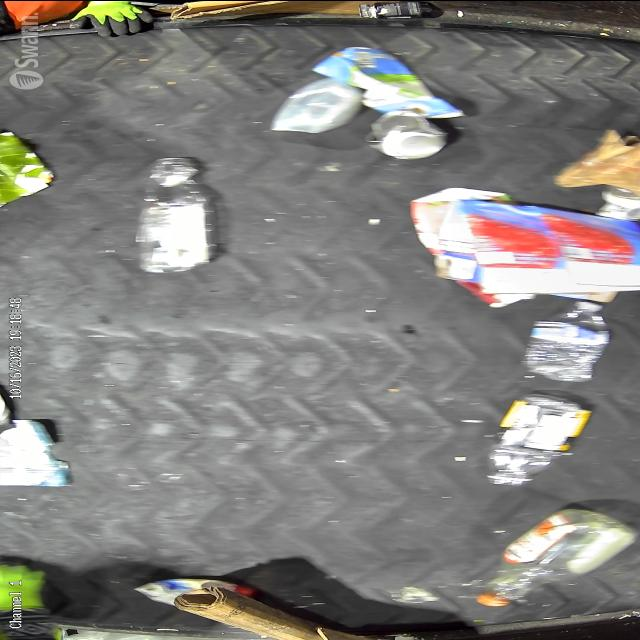can: (361, 108, 453, 158)
plastic_bottle: (472, 506, 640, 606), (128, 155, 226, 273), (480, 390, 593, 488), (522, 299, 610, 381)
